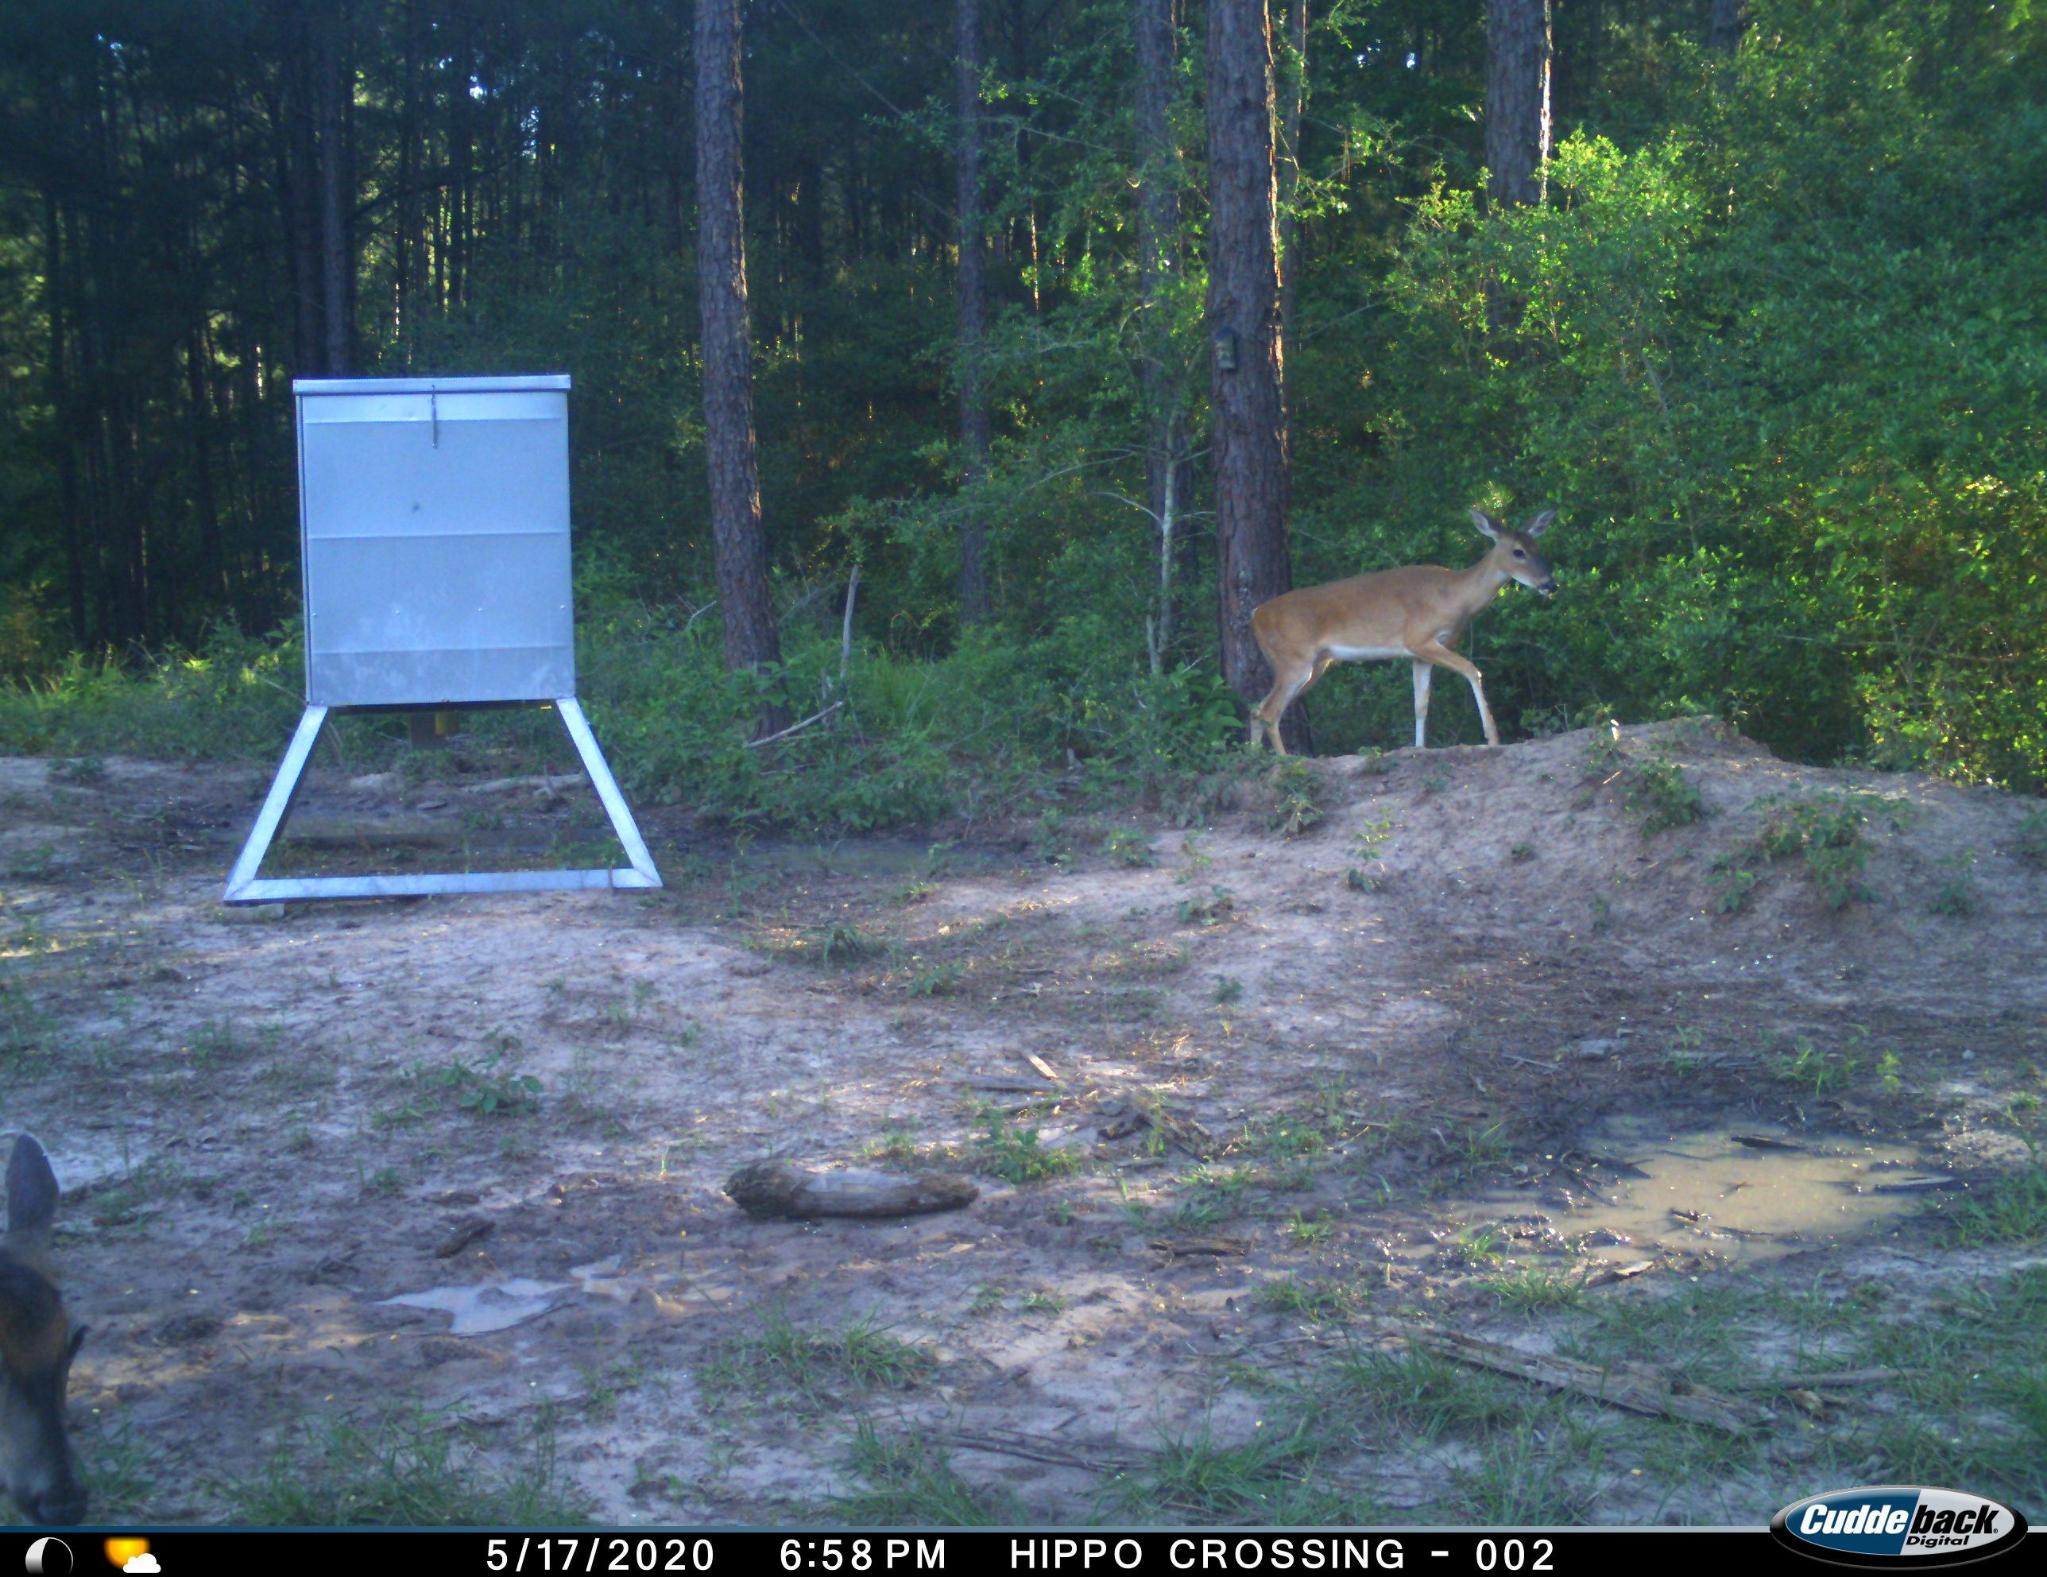Deer: (1239, 495, 1572, 774), (0, 1116, 113, 1524)
